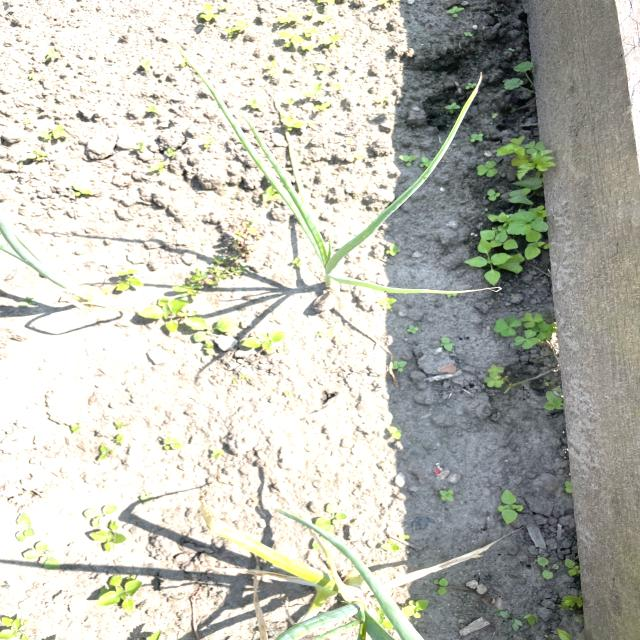Onion: (241, 534, 420, 640), (298, 173, 424, 317)
weed: (464, 108, 556, 288), (141, 294, 288, 366), (480, 308, 554, 369), (6, 504, 64, 578), (66, 418, 140, 465), (80, 501, 132, 555), (98, 574, 152, 622)
